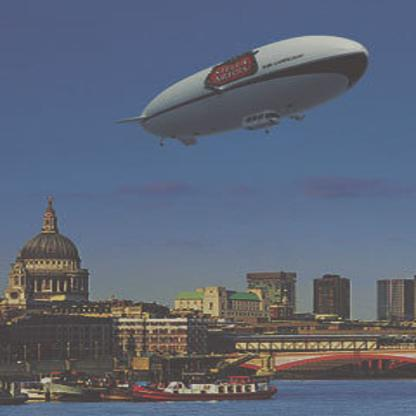Airship: (121, 34, 374, 153)
